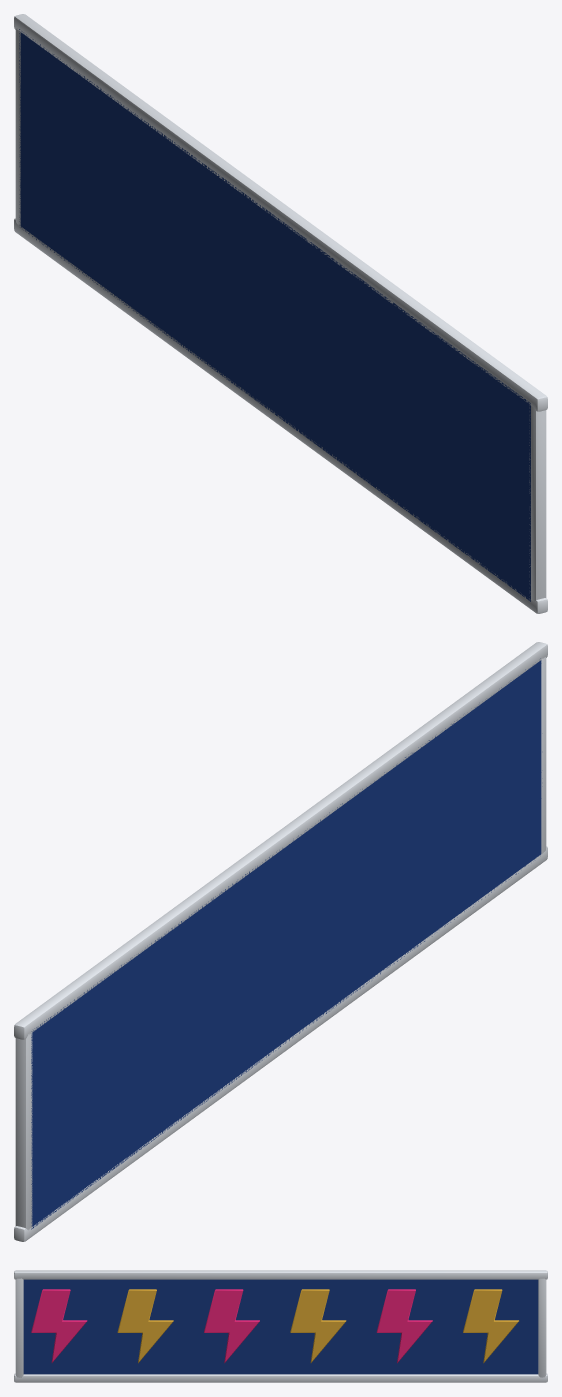
Rendered from side_panel_decor.glb.
The picture shows the model from 3 angles, top to bottom: view 1: azimuth 30°, elevation 25°; view 2: azimuth 150°, elevation 25°; view 3: azimuth 270°, elevation 25°; orthographic projection. The views are drawn at different scales.
Visible parts, largest first — view 1: paint_blue, chrome; view 2: paint_blue, chrome; view 3: paint_blue, chrome, paint_pink, paint_gold.
Part boxes in pixels (<box>): paint_blue: <box>19,29,530,601</box>; chrome: <box>14,14,547,613</box>; paint_blue: <box>31,658,541,1229</box>; chrome: <box>14,642,547,1241</box>; paint_blue: <box>23,1279,538,1374</box>; chrome: <box>14,1270,547,1382</box>; paint_pink: <box>31,1289,432,1363</box>; paint_gold: <box>117,1289,518,1363</box>.
Bounding box in the file's own units: 0.06 × 1.07 × 4.7.
